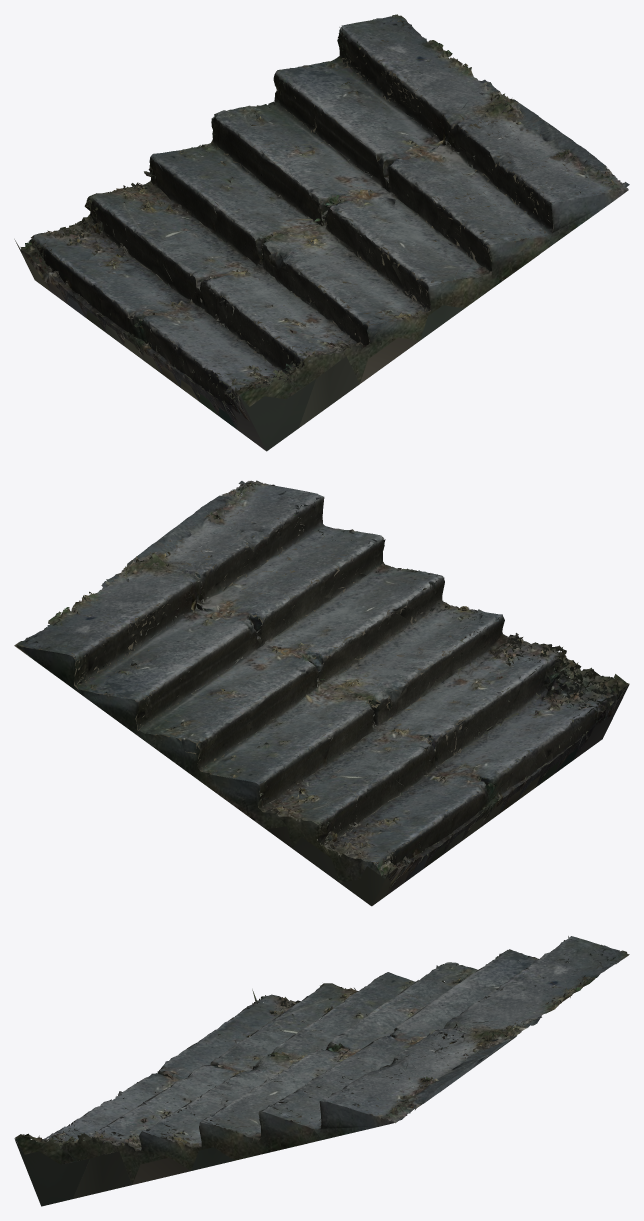
Rendered from porch_steps.glb.
3 renders of one model, top to bottom at view 1: azimuth 30°, elevation 25°; view 2: azimuth 150°, elevation 25°; view 3: azimuth 330°, elevation 25°, orthographic.
Visible parts, largest first — view 1: porch_steps; view 2: porch_steps; view 3: porch_steps.
Part boxes in pixels (left/top/right/bottom): porch_steps: left=14, top=14, right=629, bottom=451; porch_steps: left=14, top=480, right=629, bottom=906; porch_steps: left=14, top=936, right=629, bottom=1206.
Bounding box in the file's own units: 0.9481 × 0.4195 × 0.9833.
Materials: 1 (1 with a texture image).
